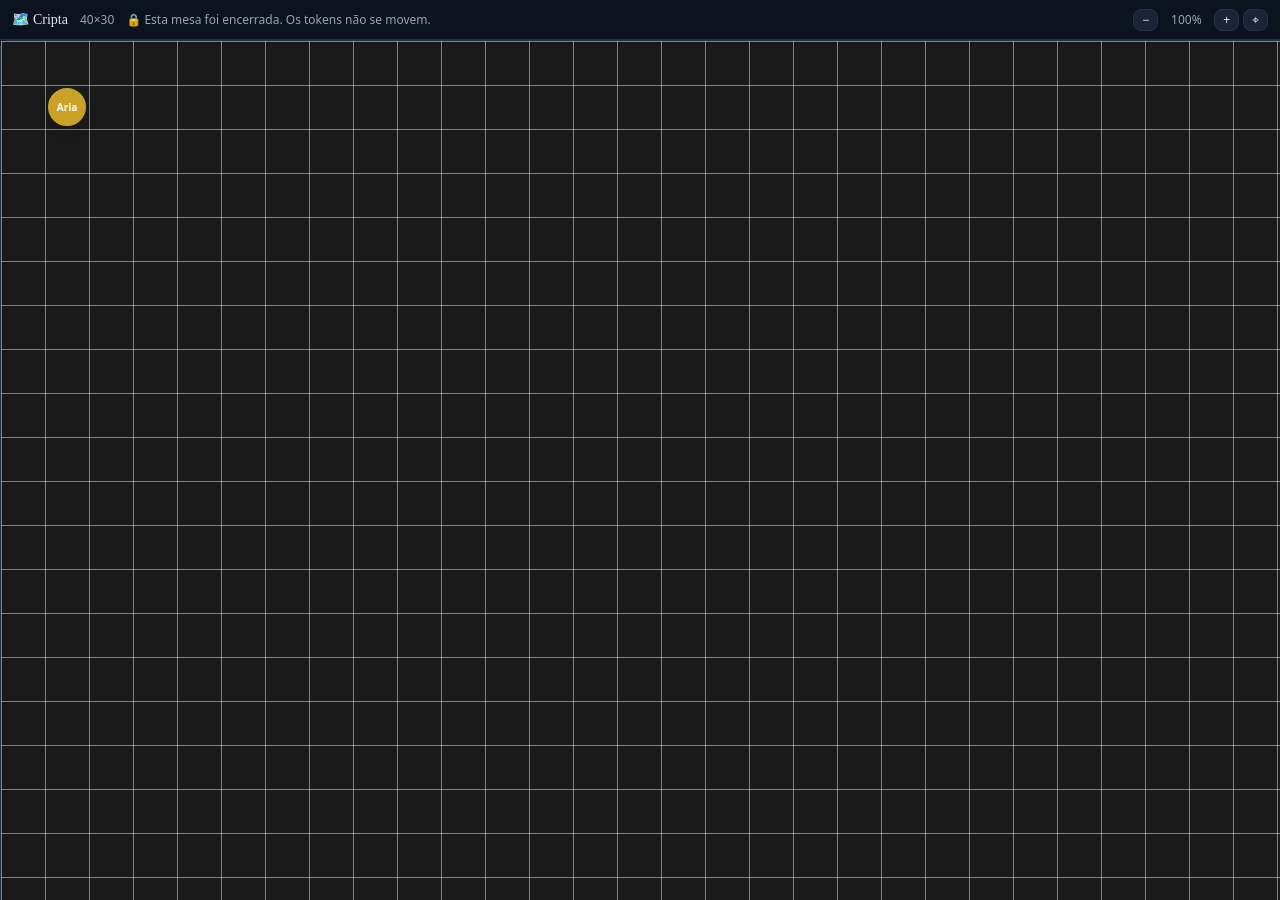
Test: Tabletop — painel de propriedades do token (RV-040) › salvar fica travado enquanto nada mudou e em mesa encerrada
The image size is (1280, 900).
Step 1. Press the mouse on the button "Aria" → (67, 107), box top-left (48, 88), bottom-right (86, 126)
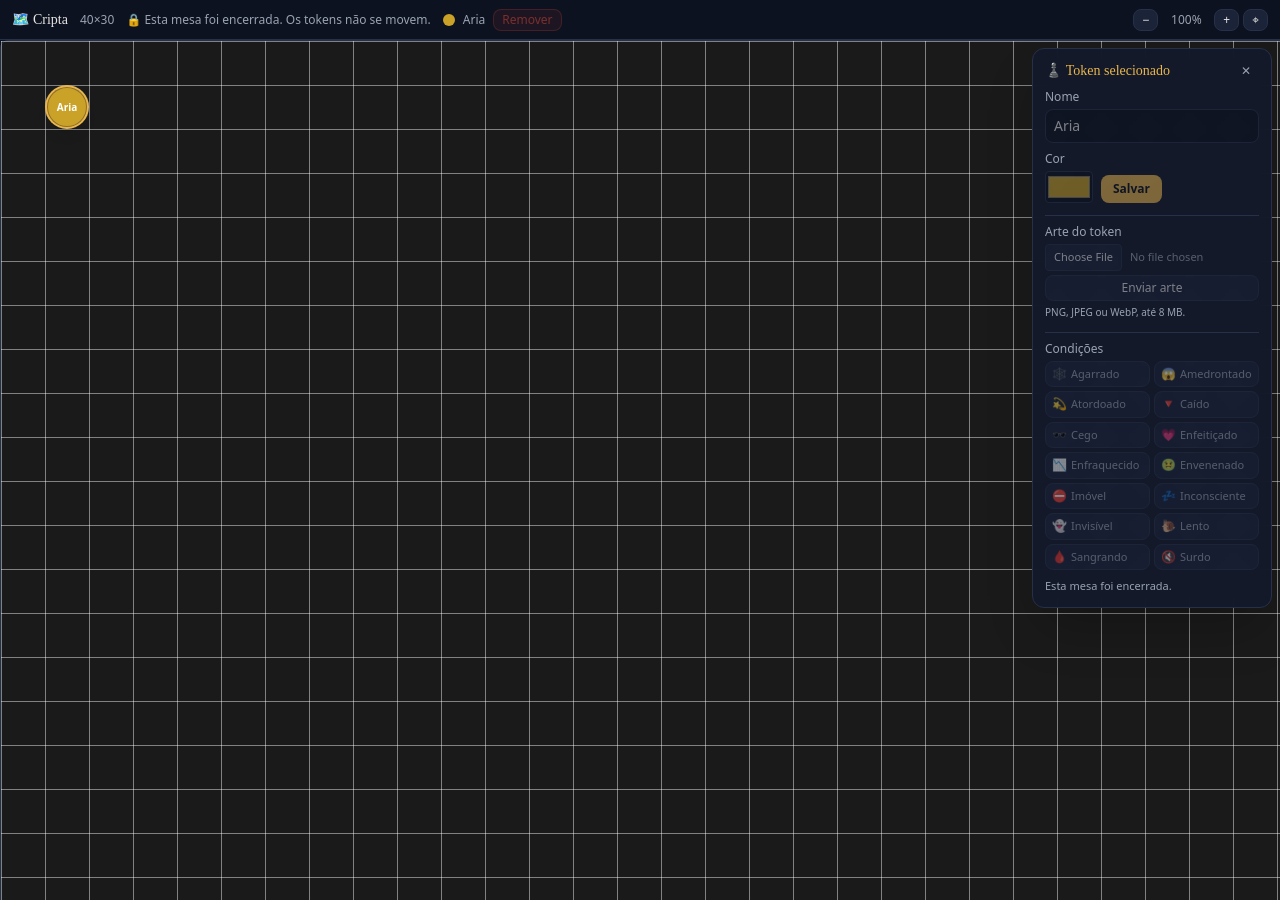
Check: the button "Salvar" is disabled, box top-left (1101, 175), bottom-right (1162, 203)
Check: the field labelled "Nome" is disabled, box top-left (1045, 109), bottom-right (1259, 143)
Check: the button "Enviar arte" is disabled, box top-left (1045, 274), bottom-right (1259, 300)
